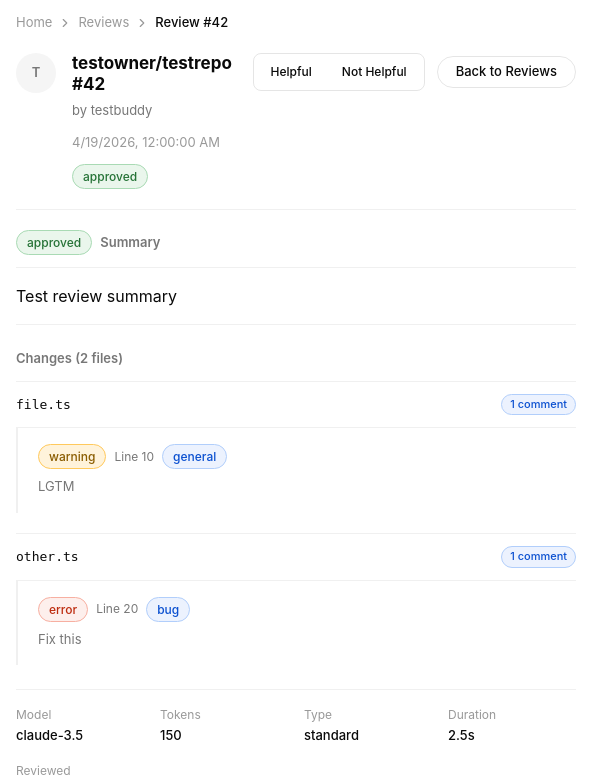
Test: ReviewDetailPage › disables feedback buttons after selection
This screenshot has width=593, height=783.
Expected: the text "Helpful" is shown, [271, 62, 312, 80]
Step 1. Click the button "Helpful" → x=291, y=72, box [258, 58, 325, 86]
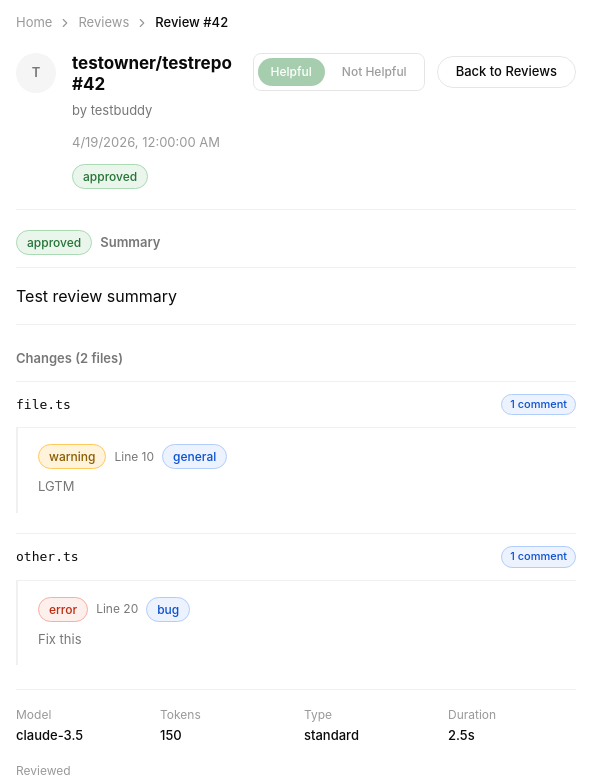
Expected: the button "Helpful" is disabled, [258, 58, 325, 86]
Expected: the button "Not Helpful" is disabled, [329, 58, 420, 86]
